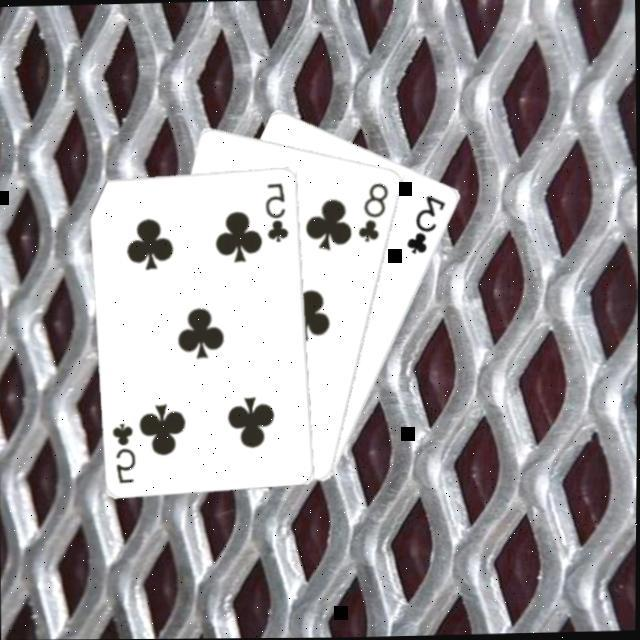3C: (402, 190, 448, 256)
5C: (108, 417, 140, 484), (262, 177, 290, 242)
8C: (353, 177, 392, 243)
